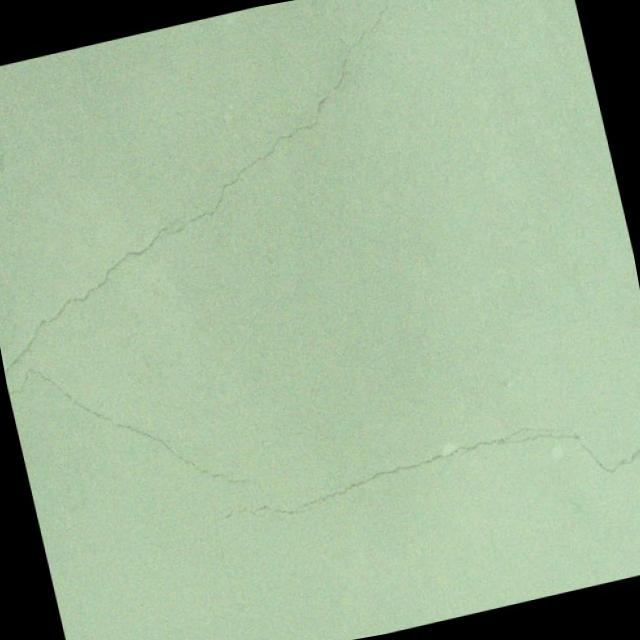crack: (0, 0, 521, 554), (211, 394, 640, 561), (200, 476, 253, 630), (360, 0, 393, 20), (258, 618, 281, 640)
